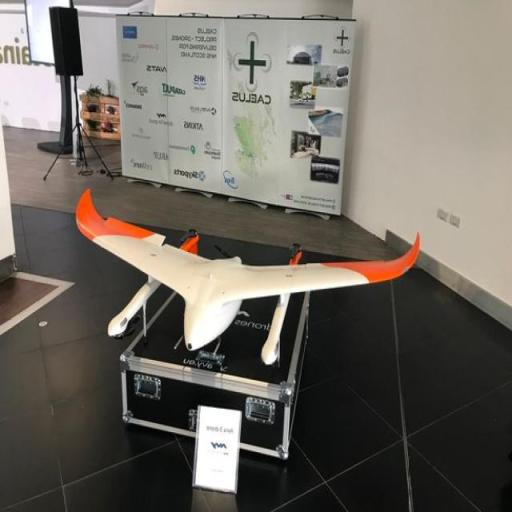uav: (72, 183, 422, 375)
